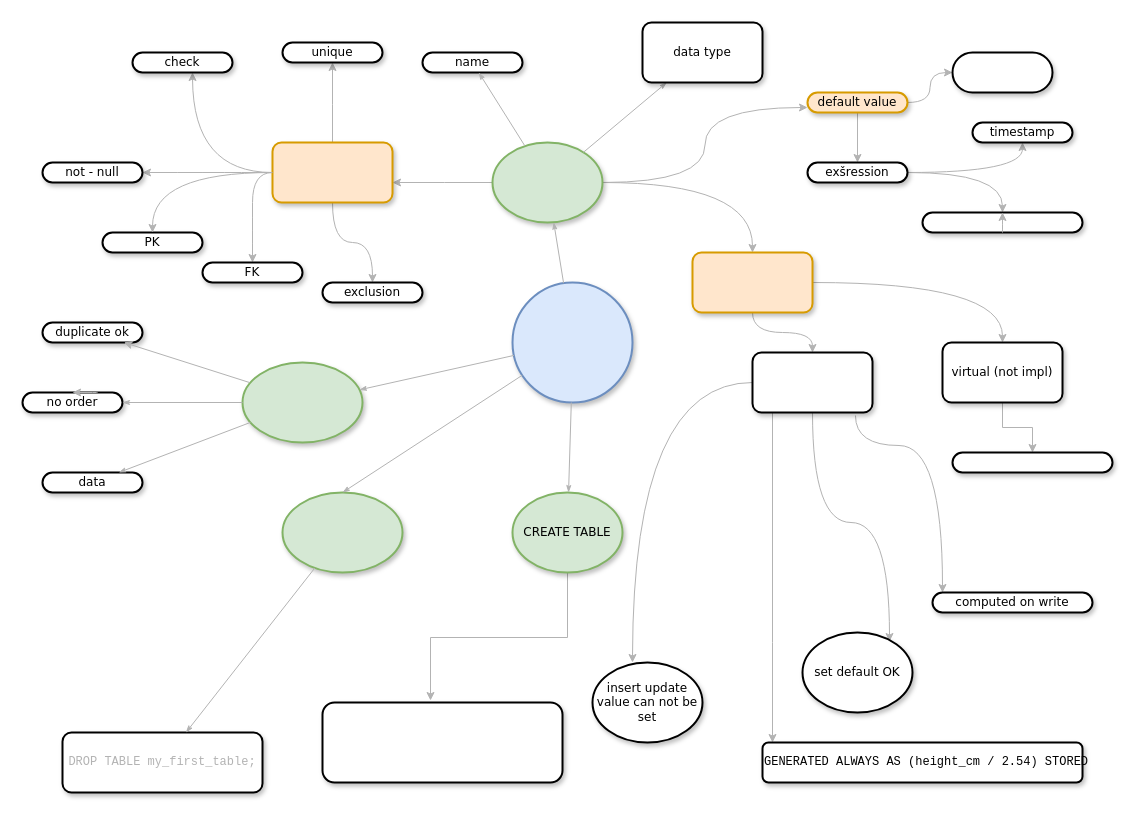
This 1136x817 diagram has some shape labels left out. The shapes that lost their labels are listed below. From the top down, each one's centre as x and y in pixels, then its label:
point (1003, 73): no declared -> null
point (333, 173): constraints
point (548, 183): COLUMN
point (1003, 223): serial number (SERIAL)
point (753, 283): generated
point (573, 343): TABLE
point (303, 403): ROW
point (813, 383): stored
point (1033, 463): computed when read
point (343, 533): DROP TABLE
point (443, 743): CREATE TABLE my_first_table ( first_column text, second_column integer );
